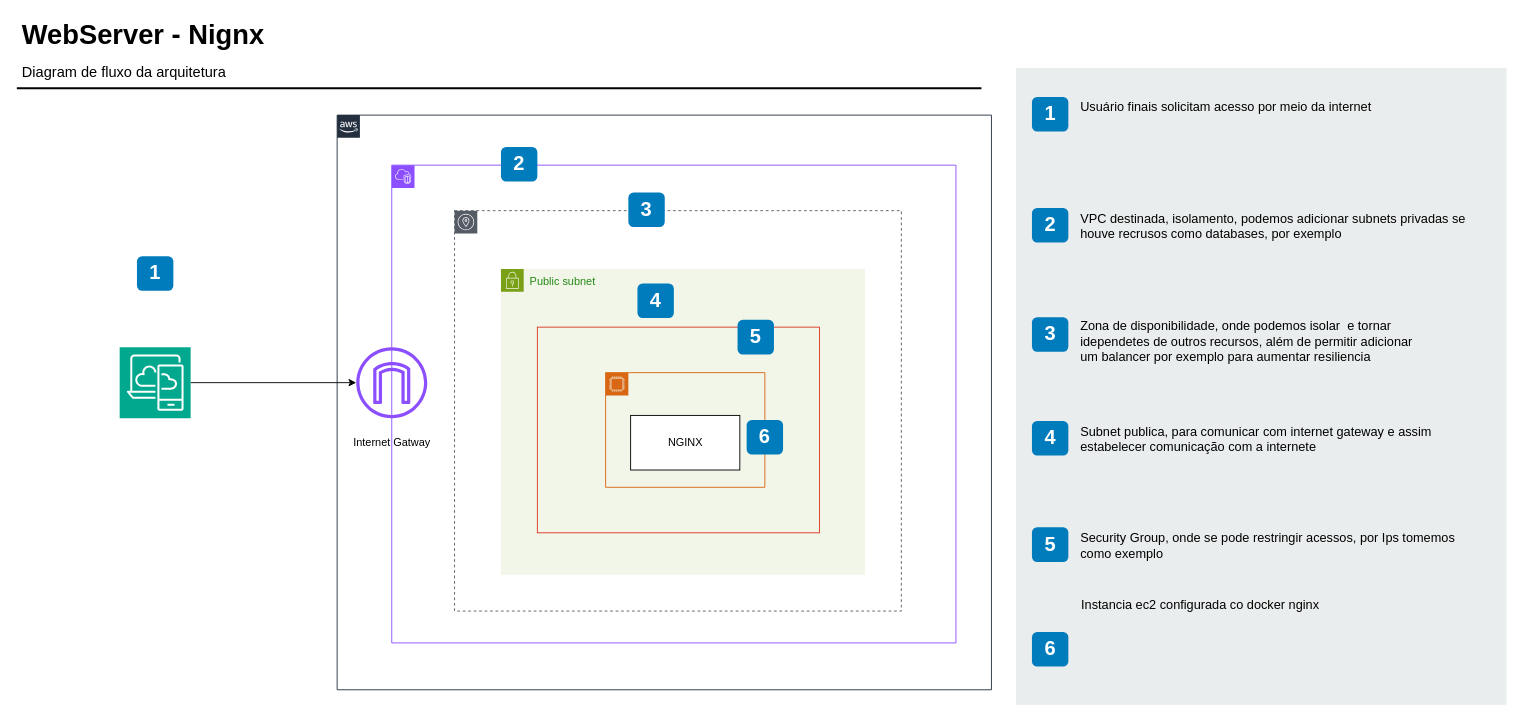
Some shapes in this 1522 by 721 pixel diagram are drawn without their labels. Here are the shapes that lost their labels. From the top down, the box of each, then its label:
(336, 114, 991, 690): AWS Cloud
(391, 164, 956, 643): VPC
(454, 210, 901, 611): Availability zone
(536, 326, 819, 533): Security group
(605, 372, 765, 487): EC2 instance contents
